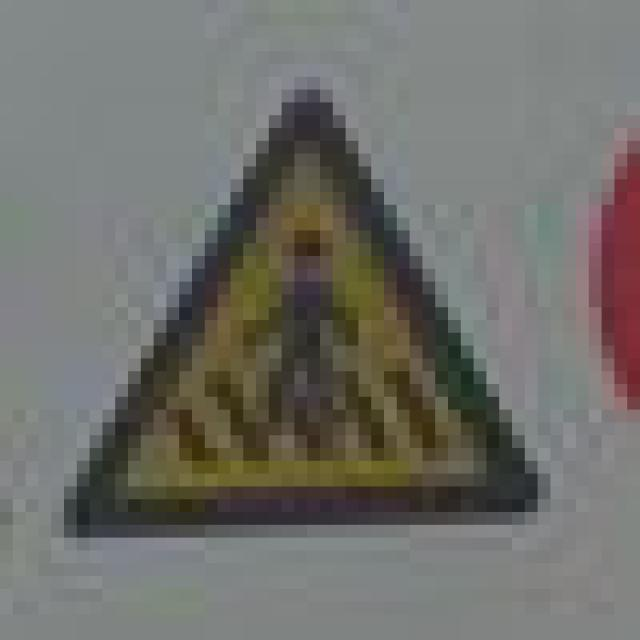pass_either_side: (51, 51, 538, 512)
